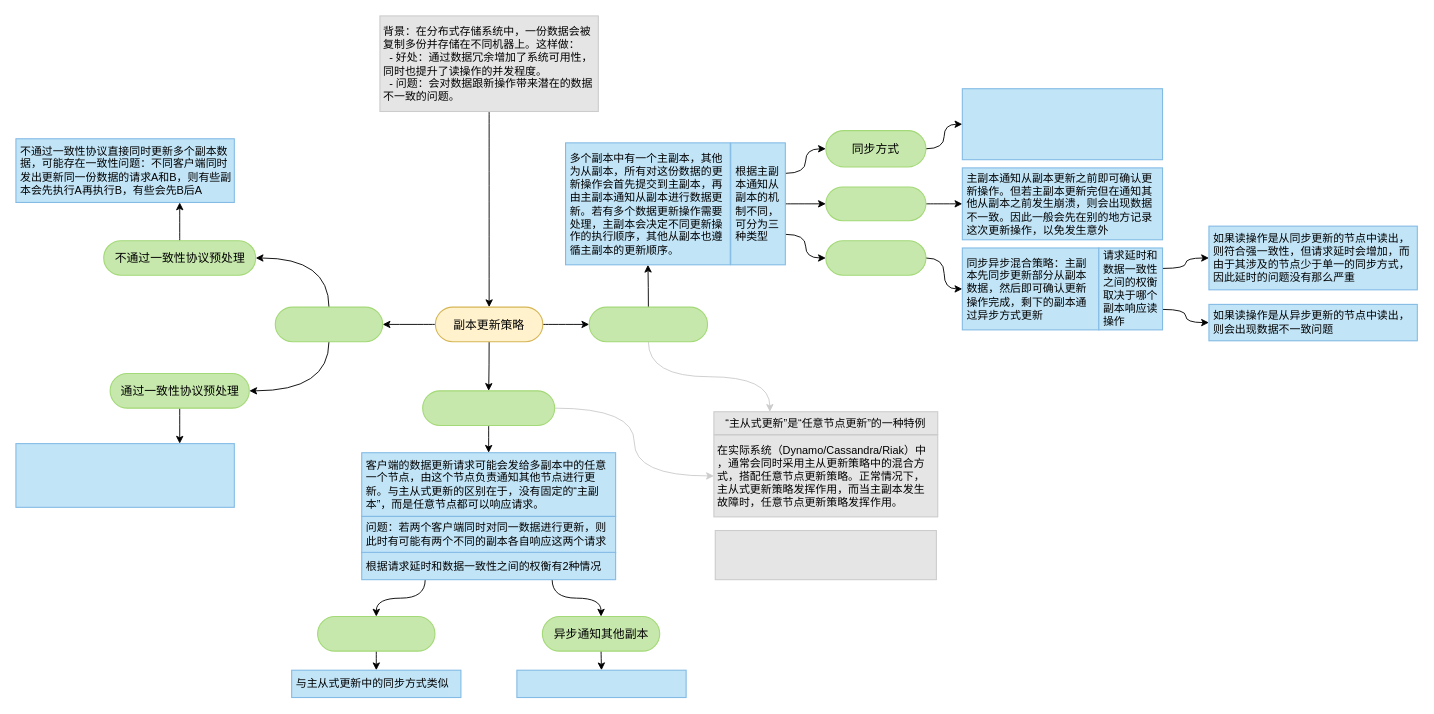
Some shapes in this 1434 by 714 pixel diagram are drawn without their labels. The box of each missing label's shape, as (x1, y1, x2, y2) in pixels:
1. 同时更新策略: (274, 306, 383, 342)
2. 主从式更新策略: (588, 306, 708, 342)
3. 任意节点更新策略: (422, 390, 555, 426)
与主从式更新中的异步方式类似: (516, 669, 686, 698)
主副本等待所有从副本更新完成后才确认更新操作完成。这种方式可以保证数据的强一致性，但是会存在较大的请求延时，因为请求延时取决于更新操作最慢的那一个副本的更新速度: (961, 88, 1163, 160)
同步通知其他副本: (317, 616, 435, 651)
异步方式: (825, 186, 926, 221)
总结：这3种副本更新策略本质上都是在 “低请求延时” 和 “数据一致性” 直接进行权衡。: (714, 530, 936, 580)
混合方式: (825, 240, 926, 275)
通过某种一致性协议进行预处理，从而确定更新操作的执行顺序。这样可以保证数据的一致性，但是由于协议本身会有处理成本，从而会增加请求延时: (15, 443, 234, 507)
